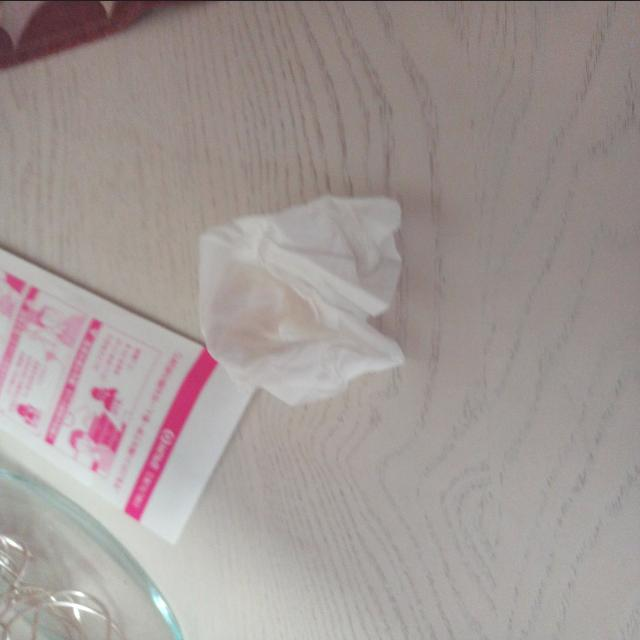Paper: (197, 203, 416, 458)
